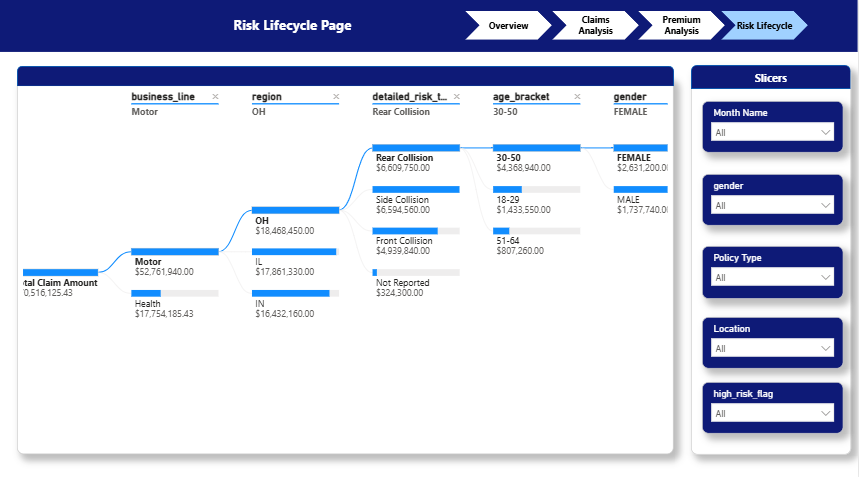

The page's visual inventory and layout, read from the dashboard file:
{"tool":"powerbi","page":{"name":"Risk Lifecycle ","canvas":[1280,720],"ordinal":3},"visuals":[{"type":"shape","box":[0,0,1280.2,79.2],"z":0},{"type":"decompositionTreeVisual","fields":{"Analyze":["_Measures.Total Claim Amount"],"ExplainBy":["v_executive_summary.business_line","v_executive_summary.region","v_executive_summary.detailed_risk_type","v_executive_summary.age_bracket","v_executive_summary.gender","v_executive_summary.high_risk_flag"]},"box":[25.1,116.7,980.3,563.6],"z":0,"group":"g1"},{"type":"shape","box":[694.3,18.6,130,42.9],"z":1000},{"type":"shape","box":[824.3,18.6,130,42.9],"z":2000},{"type":"shape","box":[952.9,18.6,130,42.9],"z":3000},{"type":"shape","box":[1075.7,18.6,130,42.9],"z":4000},{"type":"shape","box":[232.3,15.4,407.7,46.2],"z":5000},{"type":"shape","box":[1030.8,100,238.6,580],"z":6000},{"type":"slicer","fields":{"Values":["v_executive_summary.business_line"]},"box":[1047.3,368.7,211.2,78.6],"z":7000},{"type":"slicer","fields":{"Values":["Dim_Geography.policy_state"]},"box":[1047.3,474.1,211.2,77.2],"z":8000},{"type":"slicer","fields":{"Values":["Dim_Gender.gender"]},"box":[1047.3,261.6,211.2,76.8],"z":9000},{"type":"slicer","fields":{"Values":["v_executive_summary.high_risk_flag"]},"box":[1047.3,571.4,211.2,77.2],"z":10000},{"type":"slicer","fields":{"Values":["Dim_Calendar.Month"]},"box":[1047.3,152.7,211.2,77.2],"z":11000},{"type":"shape","box":[1031.2,98.7,238.4,35.7],"z":12000},{"type":"group","id":"g1","title":"Group 1","box":[25.1,100,980.9,580.3],"z":13000},{"type":"shape","box":[25.4,100,980.6,30.3],"z":14001,"group":"g1"}]}

Visuals, with their boxes in screenshot pixels (x1, y1, x2, y2), scaled from the page's 1280x720 canvas onto the 859x477 screenshot:
shape: [left=0, top=0, right=858, bottom=52]
decompositionTreeVisual - _Measures.Total Claim Amount x v_executive_summary.business_line: [left=17, top=77, right=675, bottom=451]
shape: [left=466, top=12, right=553, bottom=41]
shape: [left=553, top=12, right=640, bottom=41]
shape: [left=639, top=12, right=727, bottom=41]
shape: [left=722, top=12, right=809, bottom=41]
shape: [left=156, top=10, right=430, bottom=41]
shape: [left=692, top=66, right=852, bottom=450]
slicer - v_executive_summary.business_line: [left=703, top=244, right=845, bottom=296]
slicer - Dim_Geography.policy_state: [left=703, top=314, right=845, bottom=365]
slicer - Dim_Gender.gender: [left=703, top=173, right=845, bottom=224]
slicer - v_executive_summary.high_risk_flag: [left=703, top=379, right=845, bottom=430]
slicer - Dim_Calendar.Month: [left=703, top=101, right=845, bottom=152]
shape: [left=692, top=65, right=852, bottom=89]
"Group 1" group: [left=17, top=66, right=675, bottom=451]
shape: [left=17, top=66, right=675, bottom=86]
